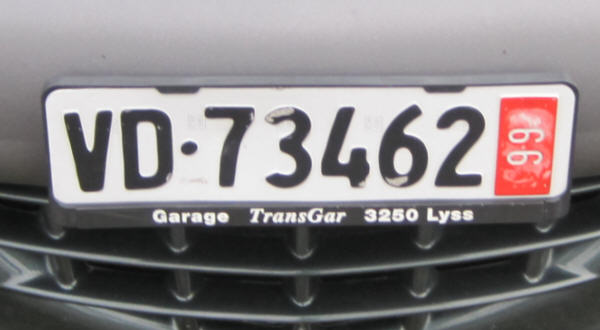license_plate: (43, 82, 576, 205)
